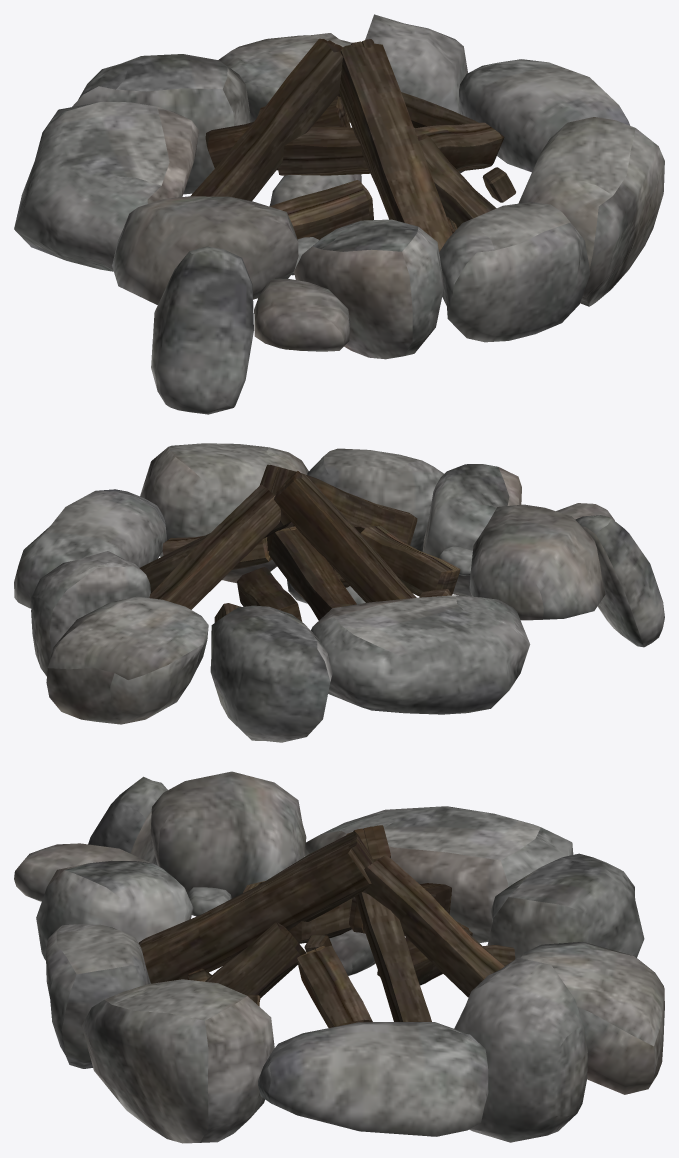
Rendered from val_bonfire.glb.
3 renders of one model, top to bottom at view 1: azimuth 30°, elevation 25°; view 2: azimuth 150°, elevation 25°; view 3: azimuth 270°, elevation 25°, orthographic. The views are drawn at different scales.
Parts seen in each view (by area): view 1: KB3D_VAL_Bonfire_A_Main; view 2: KB3D_VAL_Bonfire_A_Main; view 3: KB3D_VAL_Bonfire_A_Main.
Part boxes in pixels (x1,y1,x2,y2): KB3D_VAL_Bonfire_A_Main: (14,14,664,414); KB3D_VAL_Bonfire_A_Main: (14,443,664,742); KB3D_VAL_Bonfire_A_Main: (14,771,664,1143).
Size of the model in its own units: 0.8122 by 0.3036 by 0.7794.
2 materials, 2 textured.
